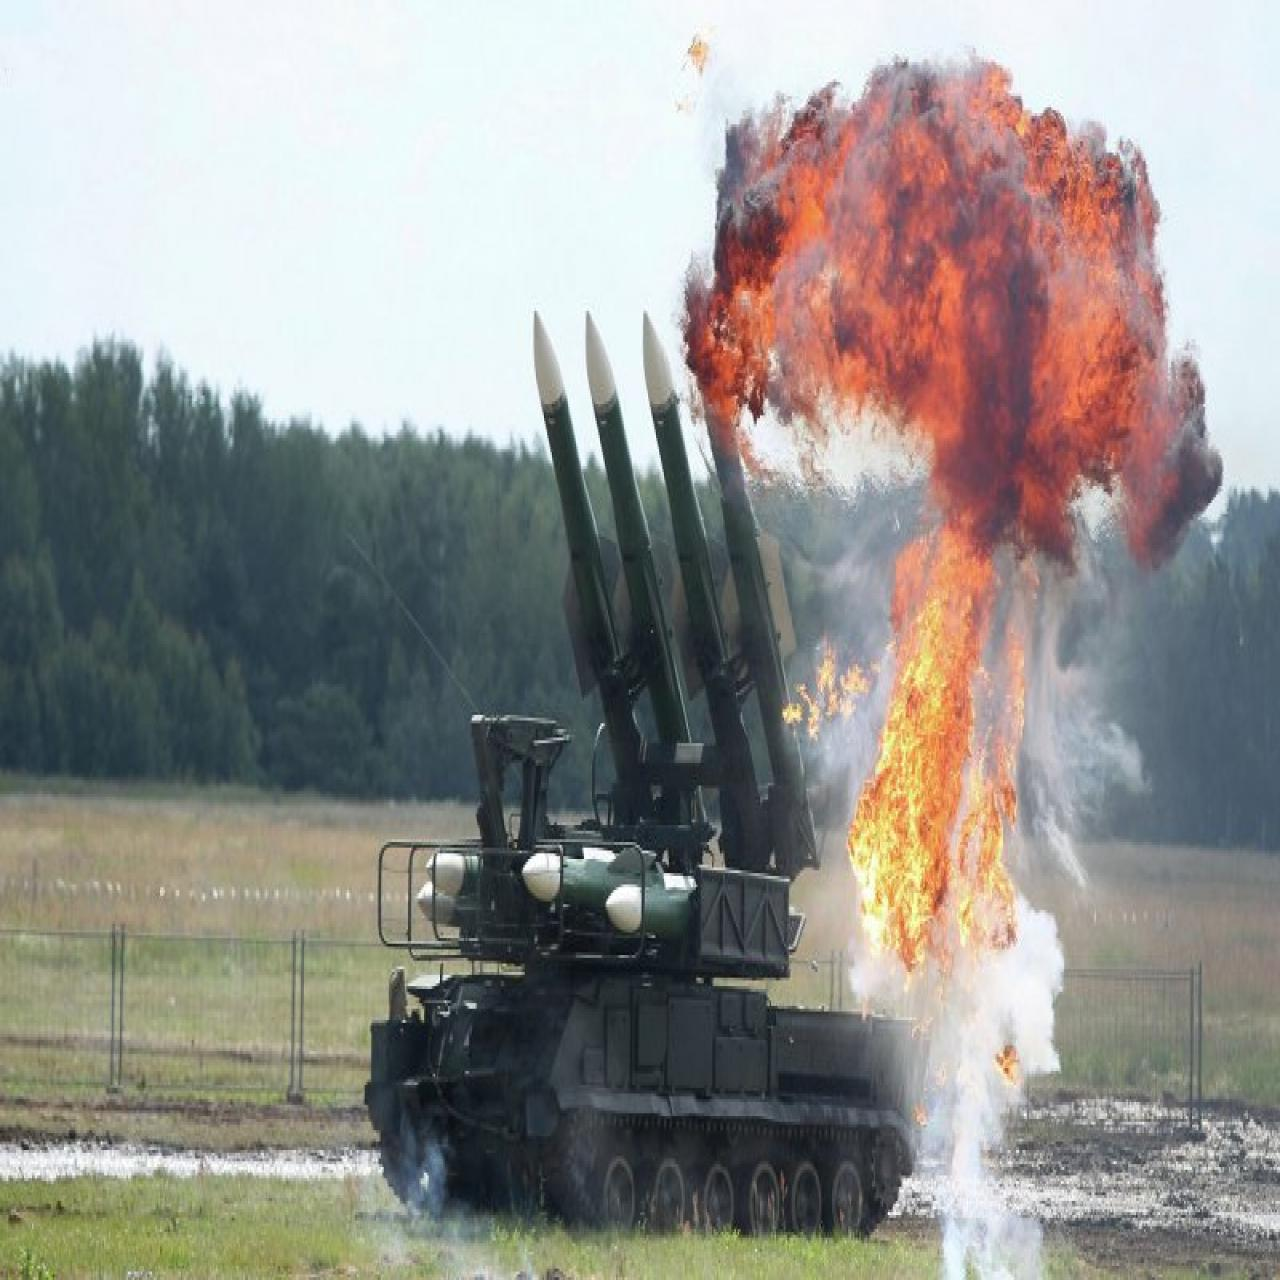MIL_Veh: (353, 311, 924, 1252)
